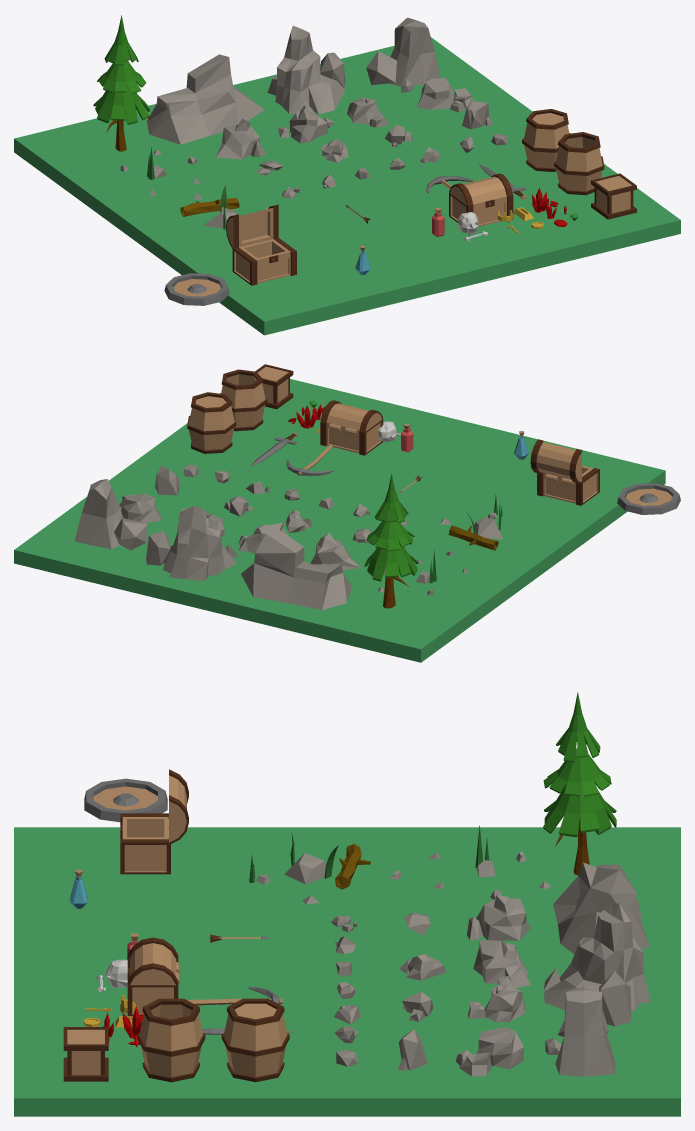
File: stones_and_treasure.dae
3 renders of one model, top to bottom at view 1: azimuth 30°, elevation 25°; view 2: azimuth 150°, elevation 25°; view 3: azimuth 270°, elevation 25°, orthographic. The views are drawn at different scales.
Parts seen in each view (by area): view 1: Ground, Stone_1, Stone_2, Tree_Fir, Stone_3, Barrel_Ope, Chest_Clos, Chest_Ope0, Barrel_Clo, Shield, Chest_Open, Box (+7 smaller); view 2: Ground, Stone_1, Stone_2, Tree_Fir, Stone_3, Chest_Clos, Barrel_Clo, Barrel_Ope, Shield, Chest_Ope0, Chest_Open, Rocks_and0 (+5 smaller); view 3: Ground, Stone_2, Tree_Fir, Stone_1, Barrel_Clo, Barrel_Ope, Stone_3, Chest_Clos, Chest_Ope0, Shield, Box, Rocks_and0 (+9 smaller).
Part boxes in pixels (x1,y1,x2,y2): Ground: (14, 37, 680, 335); Stone_1: (147, 54, 264, 144); Stone_2: (267, 25, 345, 114); Tree_Fir: (93, 15, 152, 151); Stone_3: (366, 17, 440, 92); Barrel_Ope: (554, 132, 604, 195); Chest_Clos: (449, 173, 513, 226); Chest_Ope0: (232, 238, 296, 285); Barrel_Clo: (522, 109, 570, 171); Shield: (164, 273, 229, 305); Chest_Open: (226, 204, 278, 248); Box: (591, 173, 636, 219); Ground: (14, 379, 665, 662); Stone_1: (241, 525, 351, 610); Stone_2: (146, 505, 238, 580); Tree_Fir: (364, 473, 418, 608); Stone_3: (74, 479, 147, 550); Chest_Clos: (320, 400, 383, 455); Barrel_Clo: (187, 392, 236, 453); Barrel_Ope: (220, 369, 267, 431); Shield: (617, 483, 680, 514); Chest_Ope0: (537, 465, 599, 505); Chest_Open: (530, 439, 581, 483); Rocks_and0: (440, 495, 502, 555); Ground: (14, 827, 680, 1116); Stone_2: (544, 903, 650, 1026); Tree_Fir: (543, 691, 616, 875); Stone_1: (553, 862, 649, 954); Barrel_Clo: (221, 998, 289, 1082); Barrel_Ope: (137, 998, 205, 1082); Stone_3: (545, 986, 615, 1076); Chest_Clos: (127, 937, 179, 1016); Chest_Ope0: (120, 813, 170, 874); Shield: (84, 778, 167, 822); Box: (63, 1027, 108, 1081); Rocks_and0: (249, 832, 401, 904).
Bounding box in the file's own units: 2.46 × 2.27 × 0.7473.
